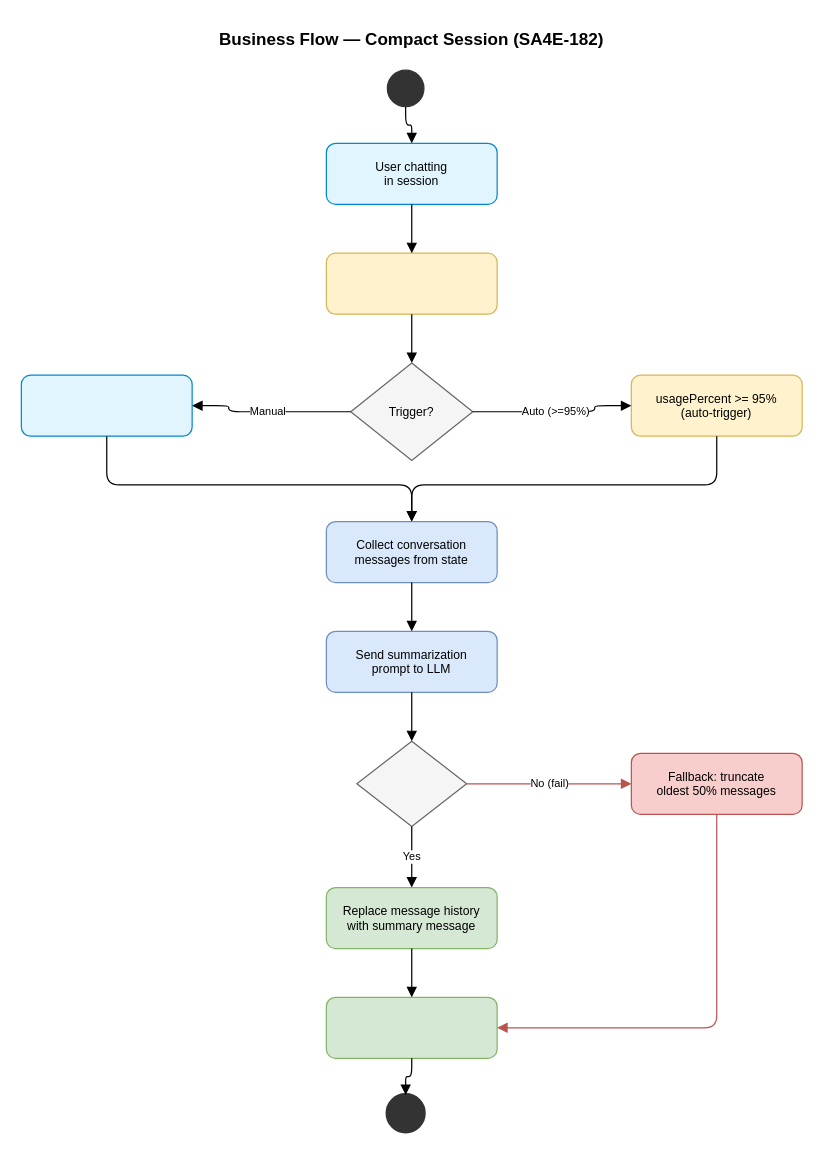
This 824x1154 diagram has some shape labels left out. Here are the shapes that lost their labels. From the top down, the centre of each, then its label:
At point 411,283: "IdeContextManager monitors usagePercent".
At point 106,405: "User types /compact".
At point 411,783: "Success?".
At point 411,1027: "Display compact notification inline".
